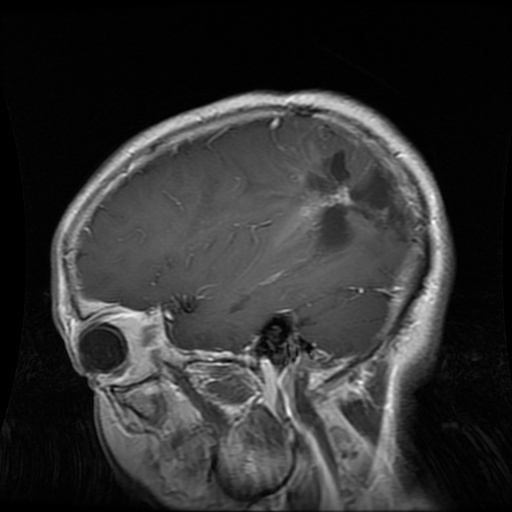glioma: (306, 148, 409, 251)
